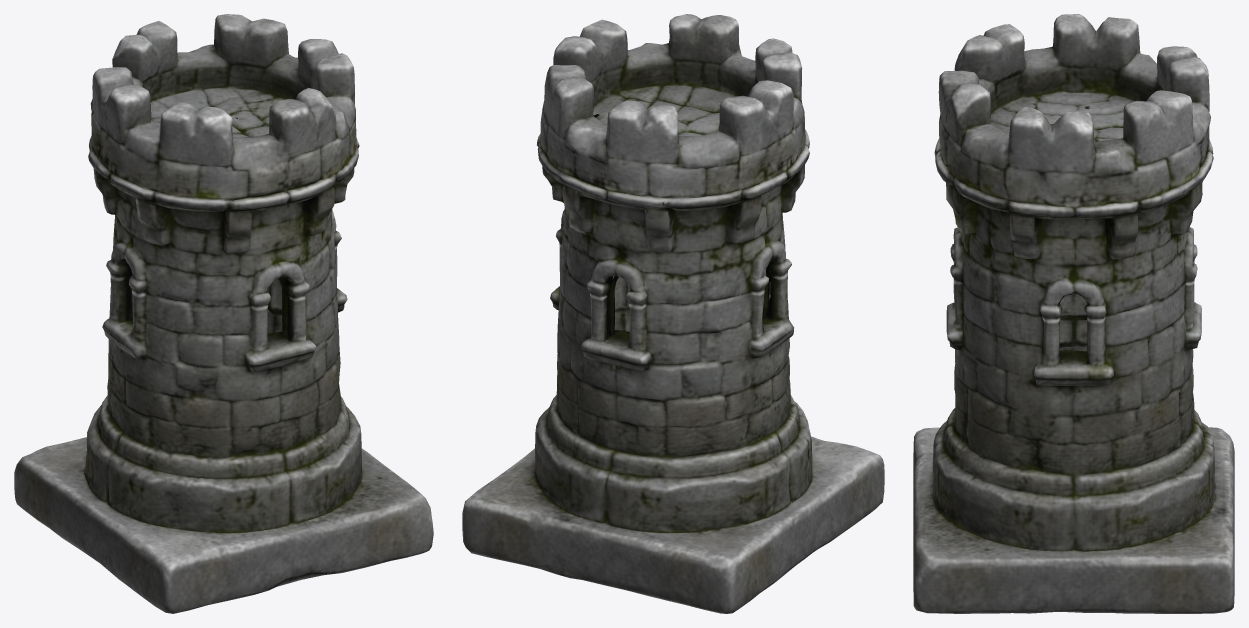
The model's file is weathered-medieval-rook-tower.glb.
3 renders of one model, left to right at view 1: azimuth 30°, elevation 25°; view 2: azimuth 150°, elevation 25°; view 3: azimuth 270°, elevation 25°, orthographic. The views are drawn at different scales.
Parts seen in each view (by area): view 1: world; view 2: world; view 3: world.
Part boxes in pixels (x1,y1,x2,y2): world: (14, 14, 433, 613); world: (462, 14, 884, 613); world: (913, 14, 1234, 613).
Bounding box in the file's own units: 0.6138 × 1 × 0.609.
1 material, 1 textured.
